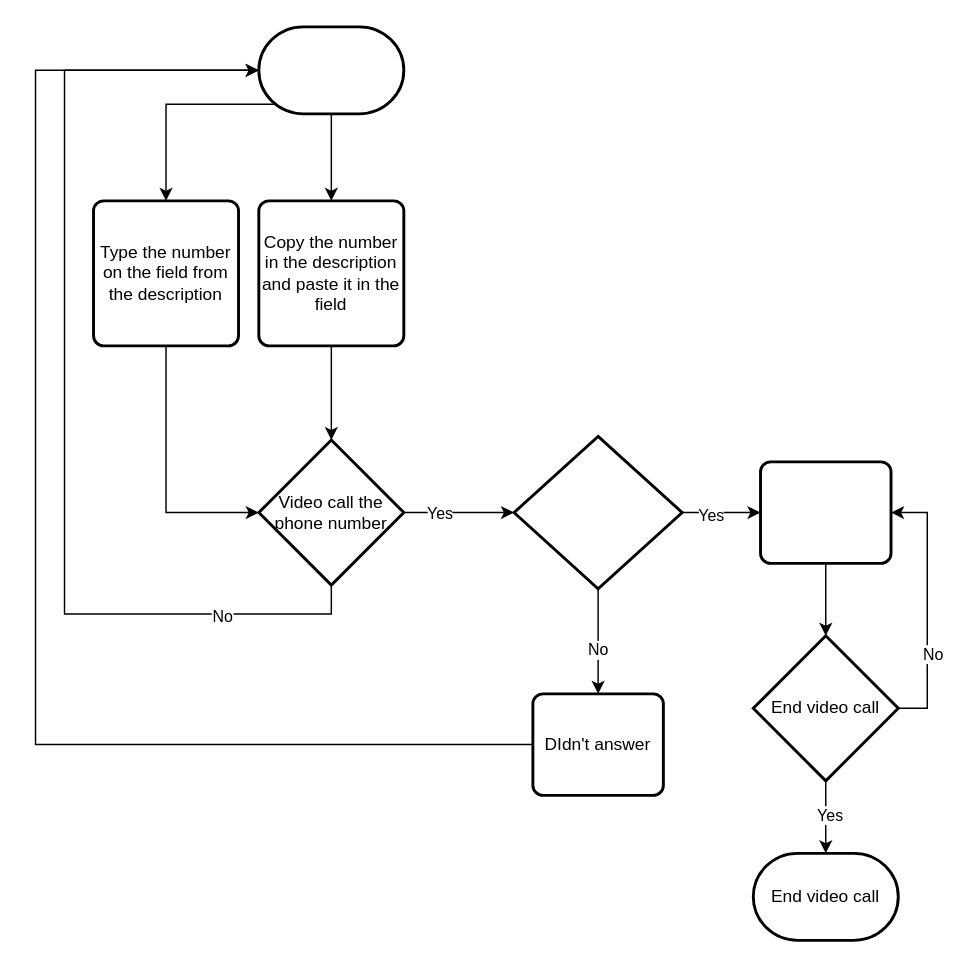
This 967x966 diagram has some shape labels left out. The shapes that lost their labels are listed below. From the top down, each one's box as (x1, y1, x2, y2) in pixels, then its label:
(257, 25, 405, 115): Start video call
(512, 434, 683, 589): Did the retiree answered the video call
(758, 460, 892, 564): In video call
